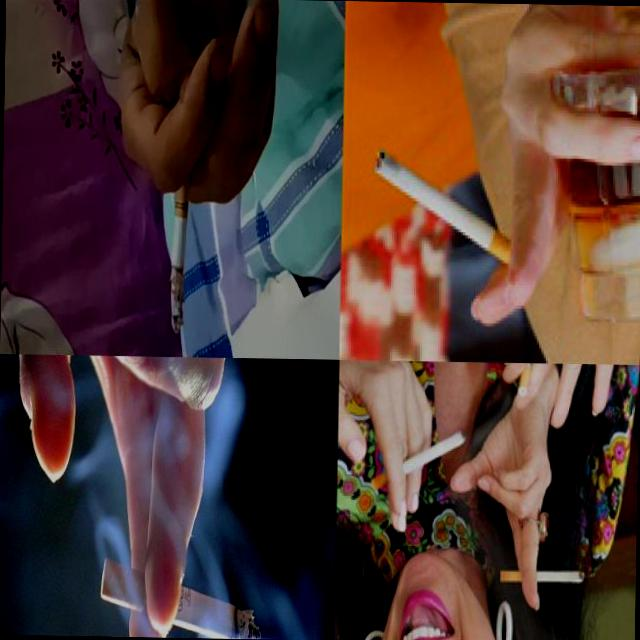cigarette: (370, 148, 520, 269), (98, 556, 261, 639), (371, 432, 468, 492), (168, 148, 190, 334), (500, 570, 585, 586)
